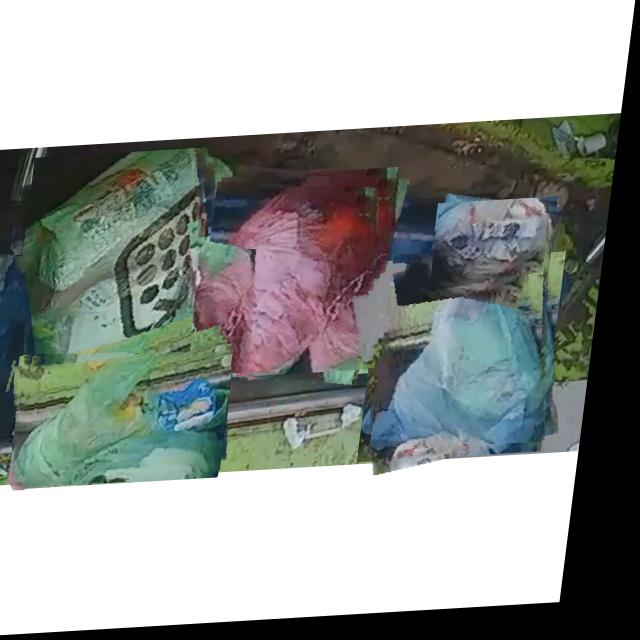general_trashbag: (28, 150, 214, 402), (27, 354, 239, 489), (442, 205, 558, 289)
other_trashbag: (209, 186, 388, 380), (383, 261, 560, 453), (196, 254, 265, 371), (0, 258, 46, 383)
